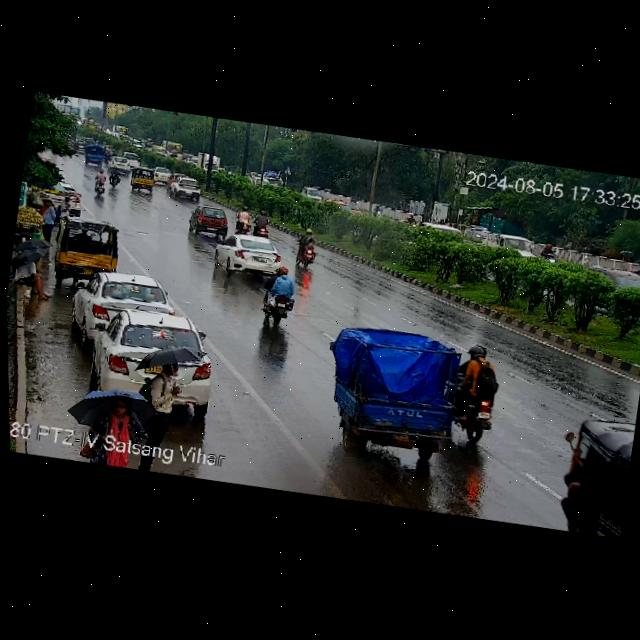car: (324, 317, 471, 465), (546, 406, 636, 540), (69, 266, 177, 340), (88, 296, 154, 395), (52, 216, 127, 282), (210, 232, 288, 280), (187, 203, 232, 241), (165, 177, 203, 203), (128, 167, 156, 197), (300, 185, 336, 207), (84, 142, 107, 168), (151, 164, 170, 184), (122, 150, 142, 168), (108, 156, 129, 173), (167, 172, 181, 187)
motorcycle: (452, 339, 507, 444), (254, 266, 305, 331), (292, 229, 328, 271), (247, 209, 278, 239), (233, 206, 259, 236), (91, 167, 110, 199), (107, 167, 126, 190), (542, 242, 558, 263), (405, 214, 418, 227), (373, 207, 382, 216)
person: (81, 391, 152, 465), (141, 355, 194, 434), (8, 255, 56, 301), (34, 197, 65, 241)
truck: (479, 229, 538, 262)
